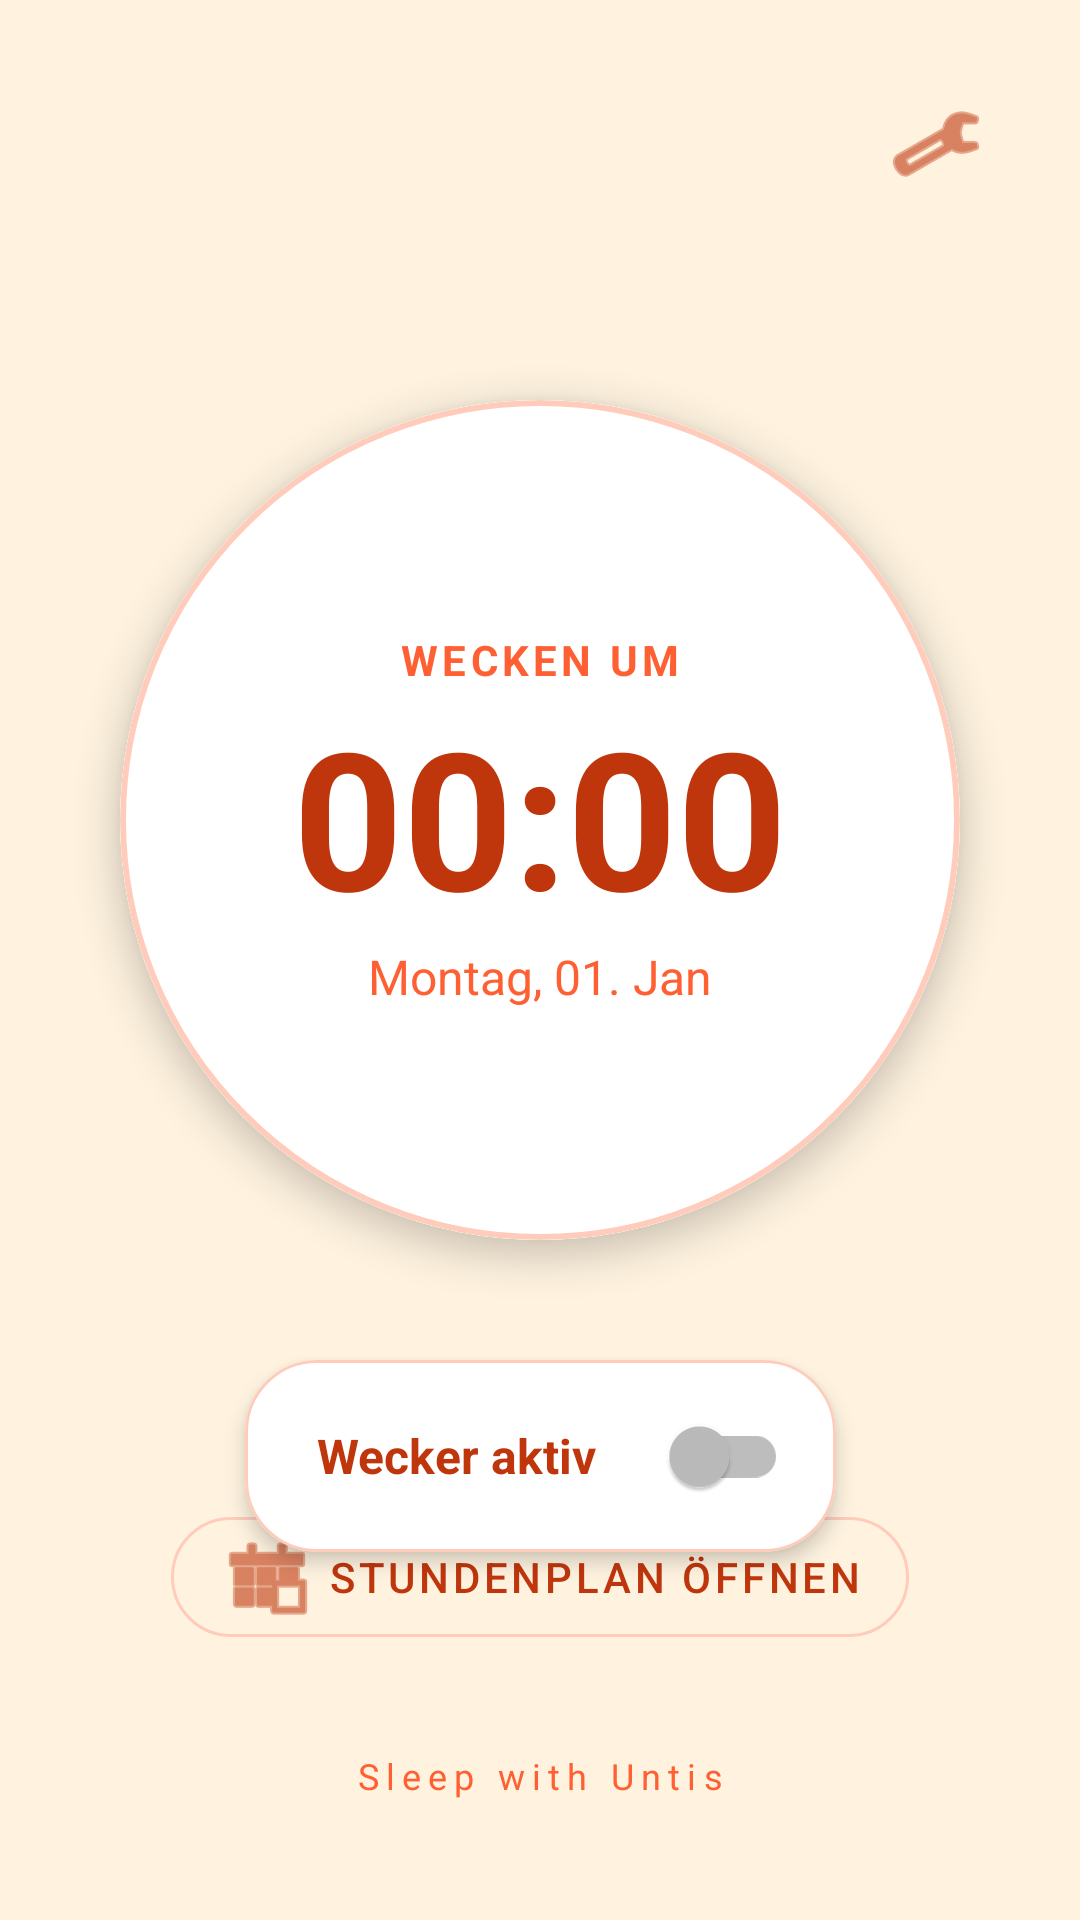

Icons on this 1080 × 1920 Android screen, each with its box as (x1, y1, x2, y2):
Settings: (893, 111, 979, 177)
